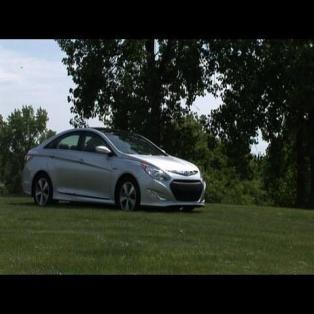Auto: (23, 127, 206, 213)
